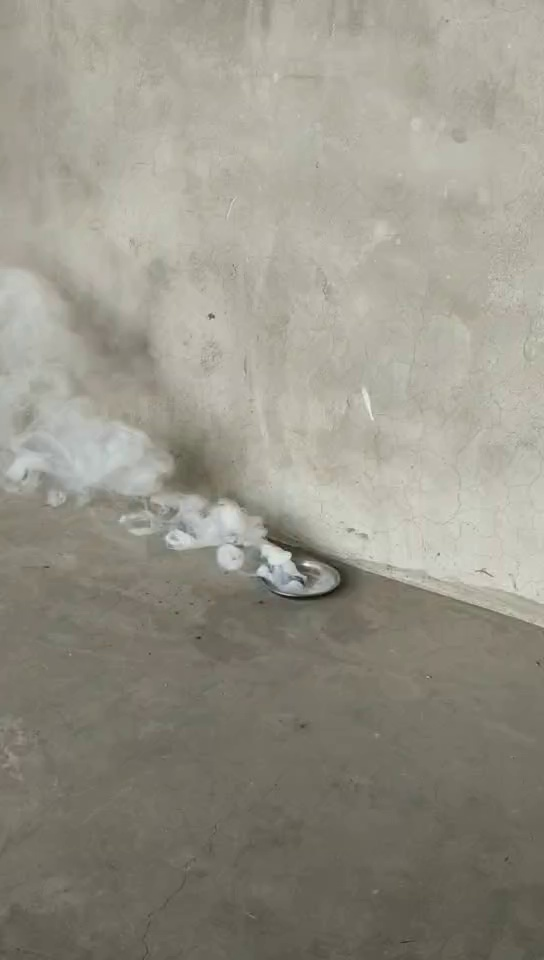smoke: (13, 330, 297, 574)
